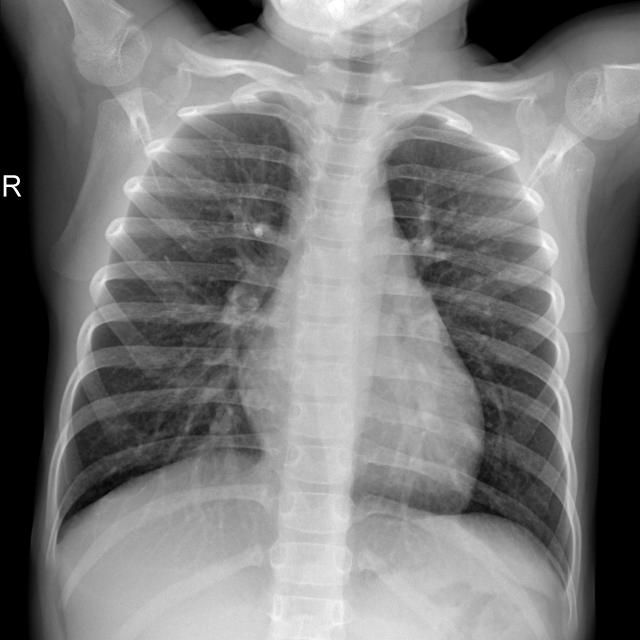no-pneumonia: (56, 109, 308, 523), (387, 111, 573, 561)
